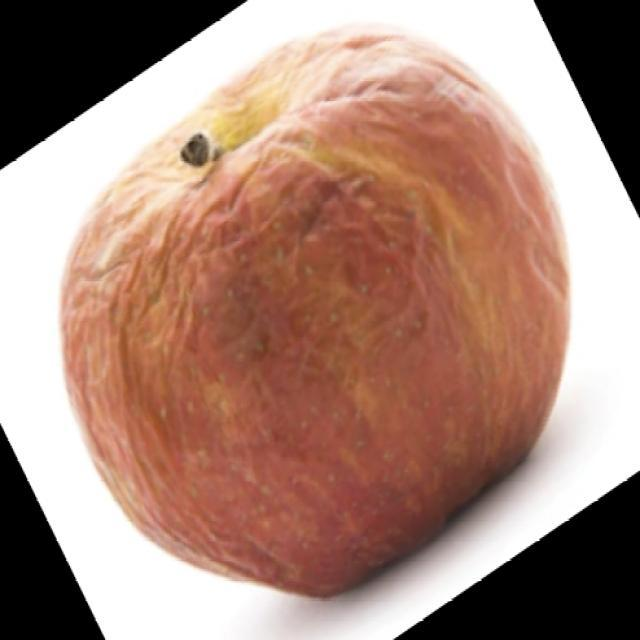Rotten: (47, 31, 573, 592)
